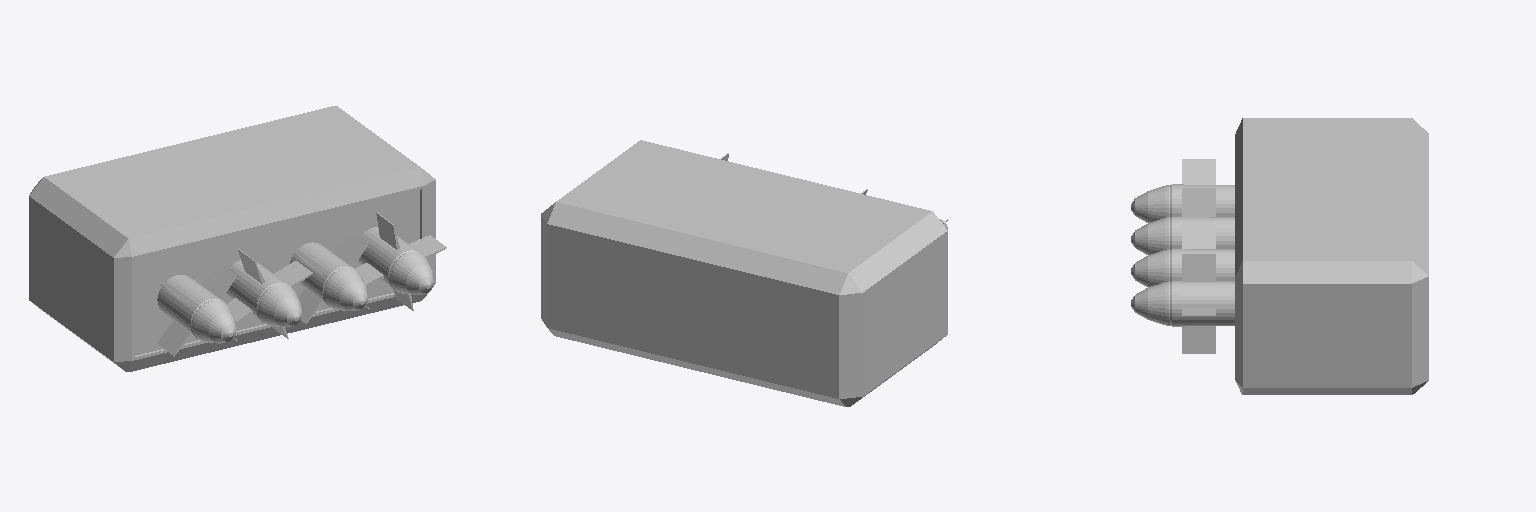
Rendered from 505top.obj.
3 renders of one model, left to right at view 1: azimuth 30°, elevation 25°; view 2: azimuth 150°, elevation 25°; view 3: azimuth 270°, elevation 25°, orthographic.
Parts seen in each view (by area): view 1: Cube.061_Cube.082; view 2: Cube.061_Cube.082; view 3: Cube.061_Cube.082.
Boxes of the visible parts, x1=… form: Cube.061_Cube.082: x1=29, y1=106, x2=446, y2=371; Cube.061_Cube.082: x1=541, y1=140, x2=948, y2=406; Cube.061_Cube.082: x1=1131, y1=118, x2=1428, y2=394.
Size of the model in its own units: 2.84 by 1.12 by 2.28.